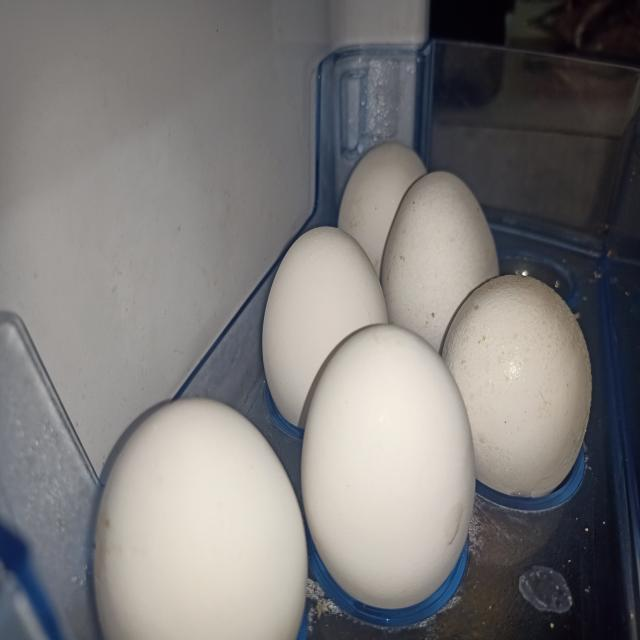Egg: (94, 399, 307, 640), (302, 324, 476, 610), (443, 275, 593, 497), (262, 226, 388, 428), (382, 170, 500, 351), (338, 142, 427, 277)
